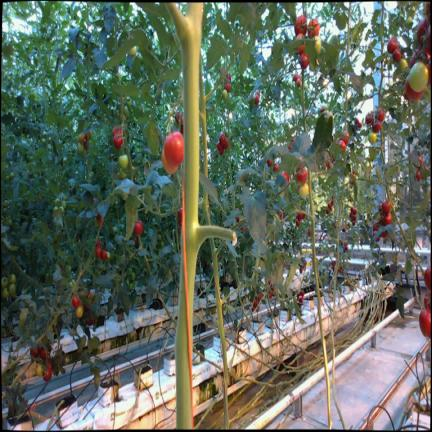MainStem: (174, 2, 202, 430), (308, 169, 332, 430), (209, 238, 229, 430), (386, 178, 425, 276), (331, 229, 346, 429), (199, 49, 208, 177), (200, 190, 211, 225), (302, 68, 307, 132)
tomato: (164, 131, 184, 166), (409, 62, 428, 91), (405, 76, 424, 100), (162, 149, 178, 174), (419, 309, 430, 338), (410, 45, 423, 67), (72, 295, 83, 318), (294, 14, 306, 35), (308, 18, 320, 38), (424, 30, 431, 58), (418, 18, 427, 38), (387, 37, 398, 53), (424, 266, 431, 290), (297, 33, 305, 54), (299, 182, 309, 198), (297, 167, 307, 183), (300, 52, 309, 69), (38, 347, 50, 359), (20, 308, 28, 326), (113, 134, 123, 148), (119, 154, 128, 169), (392, 47, 401, 62), (382, 200, 391, 214), (376, 108, 385, 122), (292, 72, 301, 86), (372, 120, 382, 132), (96, 213, 104, 228), (134, 221, 143, 234), (43, 368, 52, 381), (424, 291, 430, 310), (398, 58, 407, 70), (281, 170, 289, 183), (175, 111, 183, 124), (112, 126, 122, 136), (368, 132, 377, 143), (315, 37, 321, 53), (338, 139, 346, 150), (343, 130, 349, 144), (76, 306, 83, 318), (384, 214, 392, 224), (77, 143, 84, 154), (415, 170, 422, 181), (36, 364, 42, 376), (365, 113, 372, 123), (129, 46, 136, 56), (78, 133, 85, 143), (9, 283, 15, 294), (3, 287, 9, 298), (95, 246, 101, 257), (101, 250, 107, 261), (1, 277, 8, 286), (9, 274, 16, 283), (123, 106, 129, 116), (219, 134, 225, 144), (46, 361, 51, 372), (222, 90, 228, 99), (293, 72, 298, 82), (225, 82, 230, 92), (254, 94, 259, 104), (226, 73, 231, 82), (219, 145, 224, 154), (349, 211, 354, 220), (224, 138, 228, 149), (267, 159, 273, 166), (273, 164, 279, 171), (61, 201, 66, 209), (217, 142, 222, 150), (381, 231, 387, 237), (131, 272, 135, 281), (55, 197, 60, 204), (59, 206, 64, 213), (357, 120, 362, 127), (323, 104, 328, 110), (304, 83, 308, 90), (353, 207, 357, 214), (352, 215, 356, 222), (355, 118, 359, 125), (129, 283, 133, 290), (158, 234, 162, 241), (160, 241, 164, 248), (320, 106, 324, 112), (256, 90, 259, 96), (54, 206, 58, 210), (351, 206, 353, 211)
